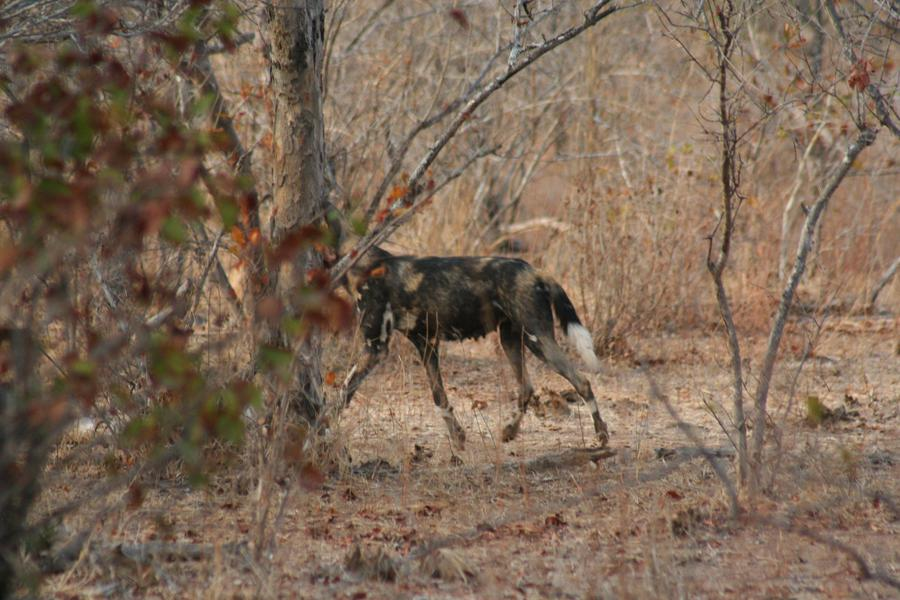wilddog: (339, 266, 560, 380)
